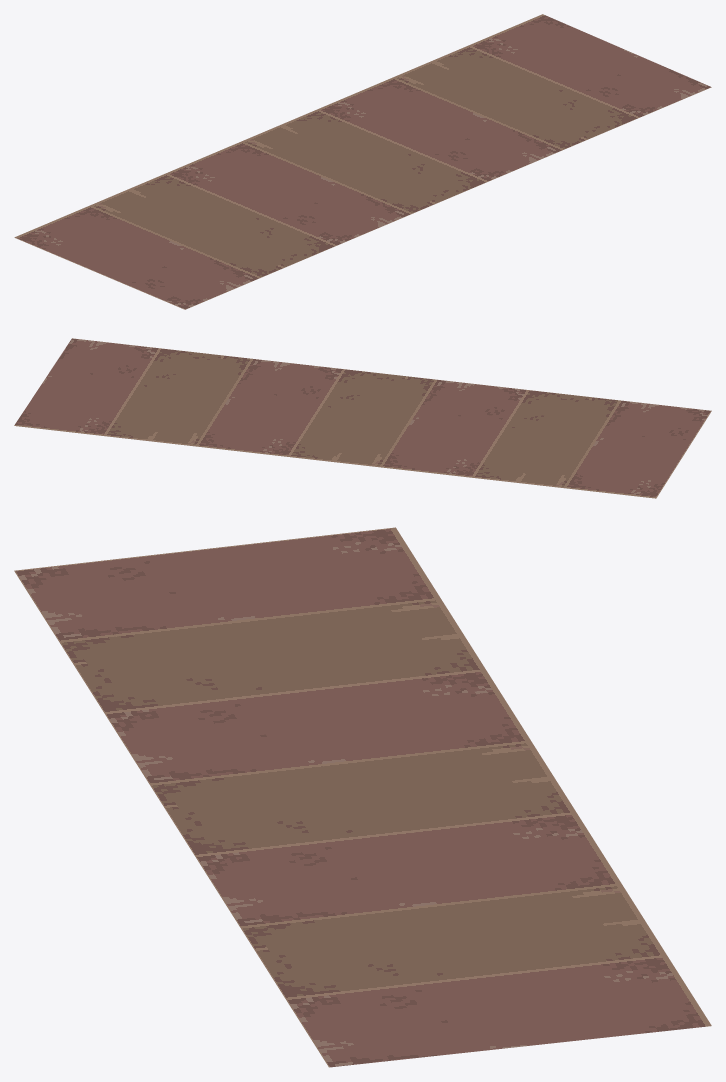
Rendered from kd_stage_13612f_0_3.glb.
The picture shows the model from 3 angles, top to bottom: view 1: azimuth 30°, elevation 25°; view 2: azimuth 150°, elevation 25°; view 3: azimuth 270°, elevation 25°; orthographic projection. The views are drawn at different scales.
Visible parts, largest first — view 1: kd_stage_13612f_0_3; view 2: kd_stage_13612f_0_3; view 3: kd_stage_13612f_0_3.
Boxes of the visible parts, x1,y1,x2,y2 form: kd_stage_13612f_0_3: (14, 14, 711, 309); kd_stage_13612f_0_3: (14, 338, 711, 498); kd_stage_13612f_0_3: (14, 527, 711, 1067).
Bounding box in the file's own units: 13.89 × 0 × 7.58.
Materials: 1 (1 with a texture image).
